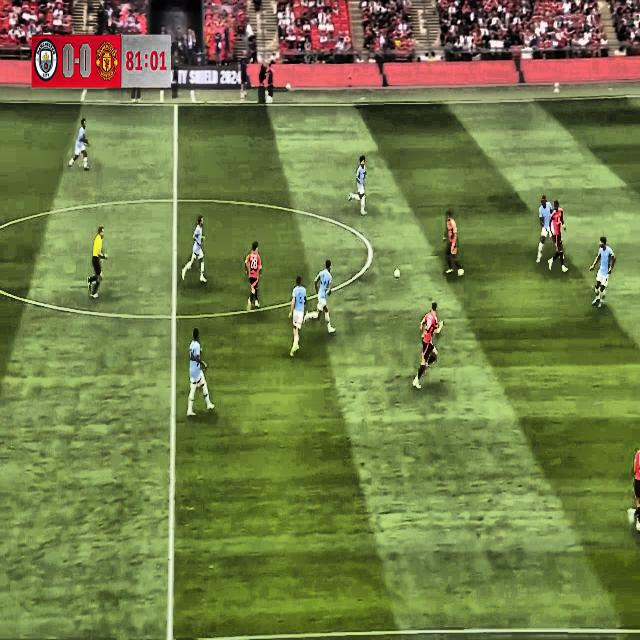ball: (391, 264, 405, 283)
players: (408, 302, 448, 398), (186, 330, 220, 422), (302, 256, 337, 337), (588, 232, 620, 312), (285, 271, 311, 361), (241, 238, 268, 320), (180, 211, 208, 290), (531, 194, 560, 268), (622, 431, 640, 537), (546, 199, 571, 275), (347, 150, 373, 220), (442, 210, 467, 282), (210, 102, 234, 170), (68, 114, 90, 182)
refree: (86, 212, 111, 304)
